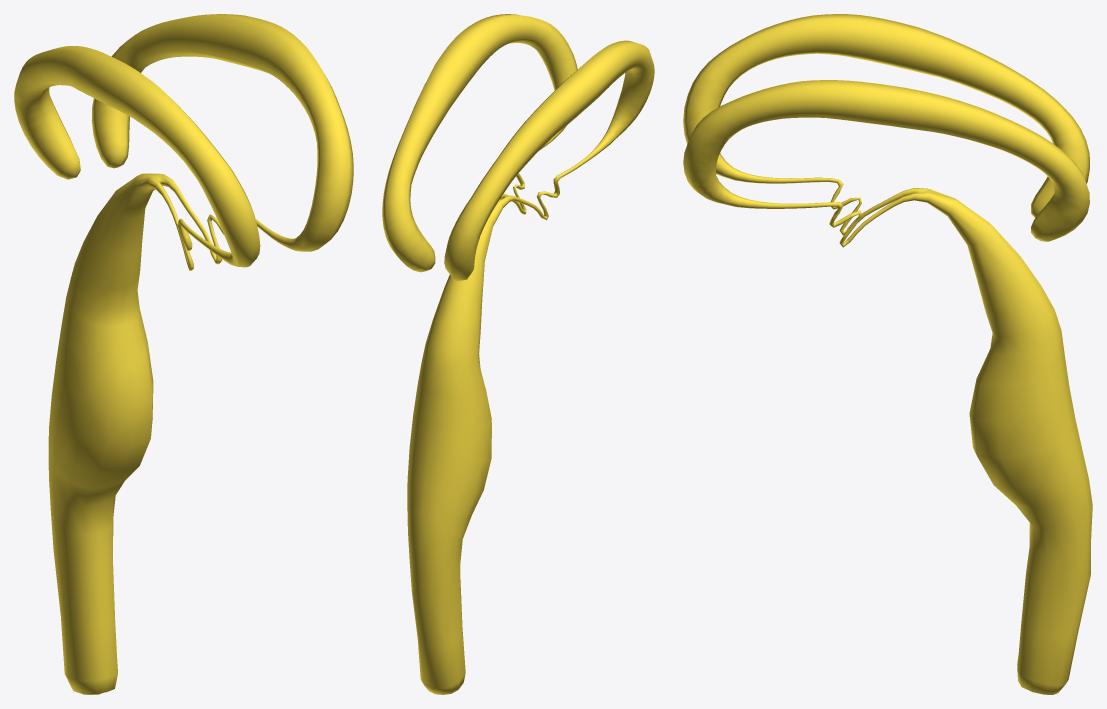
Rendered from 女性_神经系统_髓质_尾状核.fbx.
The picture shows the model from 3 angles, left to right: view 1: azimuth 30°, elevation 25°; view 2: azimuth 150°, elevation 25°; view 3: azimuth 270°, elevation 25°; orthographic projection. The views are drawn at different scales.
Visible parts, largest first — view 1: 女性_神经系统_髓质_尾状核; view 2: 女性_神经系统_髓质_尾状核; view 3: 女性_神经系统_髓质_尾状核.
Part boxes in pixels (<box>): 女性_神经系统_髓质_尾状核: <box>14,14,353,694</box>; 女性_神经系统_髓质_尾状核: <box>382,14,654,694</box>; 女性_神经系统_髓质_尾状核: <box>683,14,1092,694</box>.
Size of the model in its own units: 3.83 by 13.88 by 8.06.
